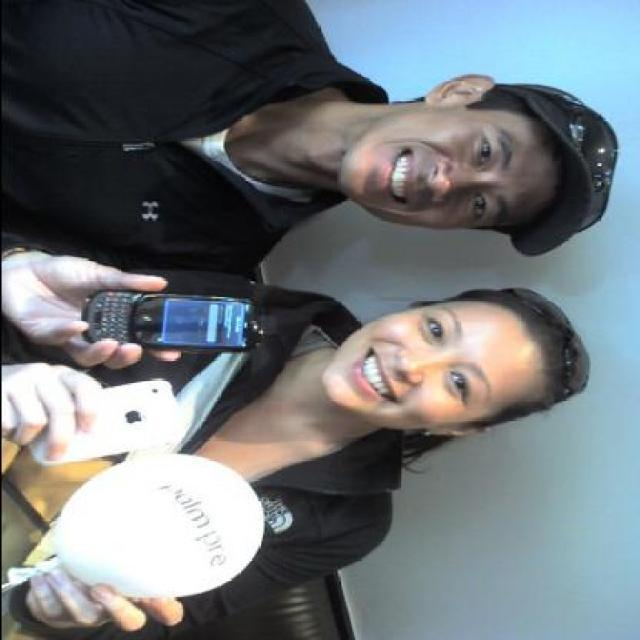phone: (25, 377, 183, 468), (81, 290, 263, 354)
